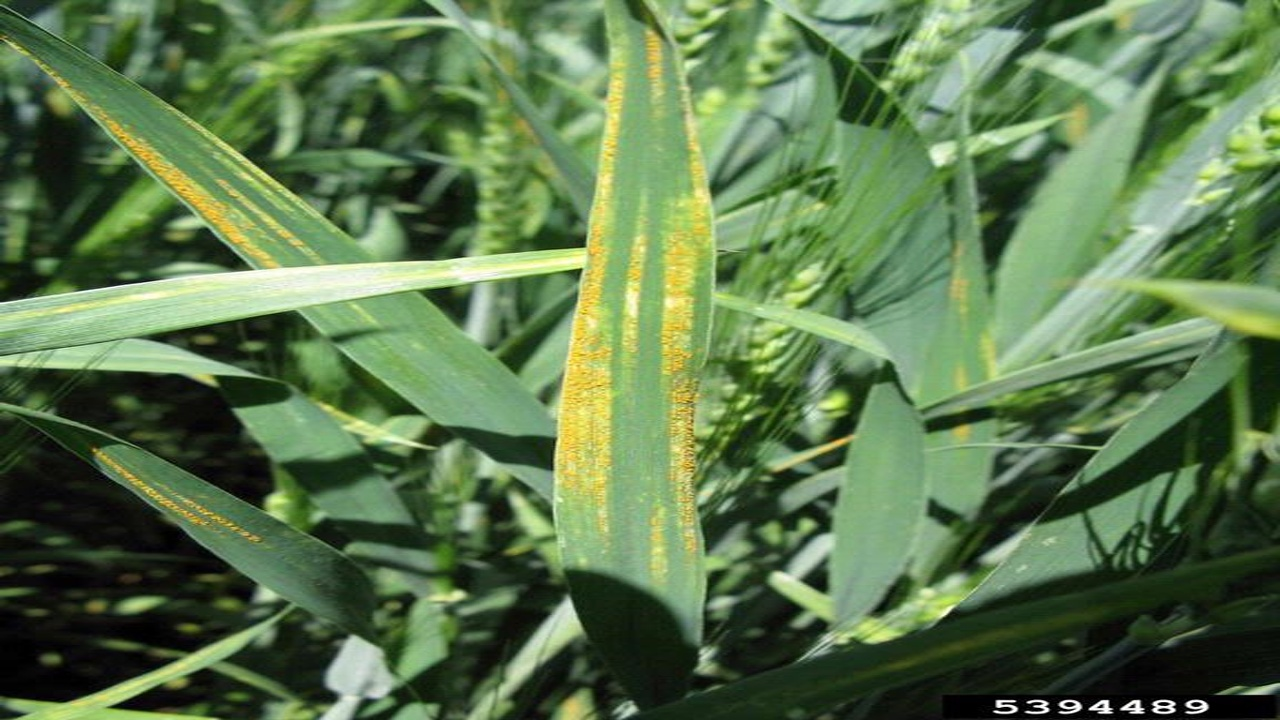stripe_rust: (2, 6, 560, 492), (550, 12, 720, 720), (10, 406, 380, 632), (925, 114, 998, 465)
